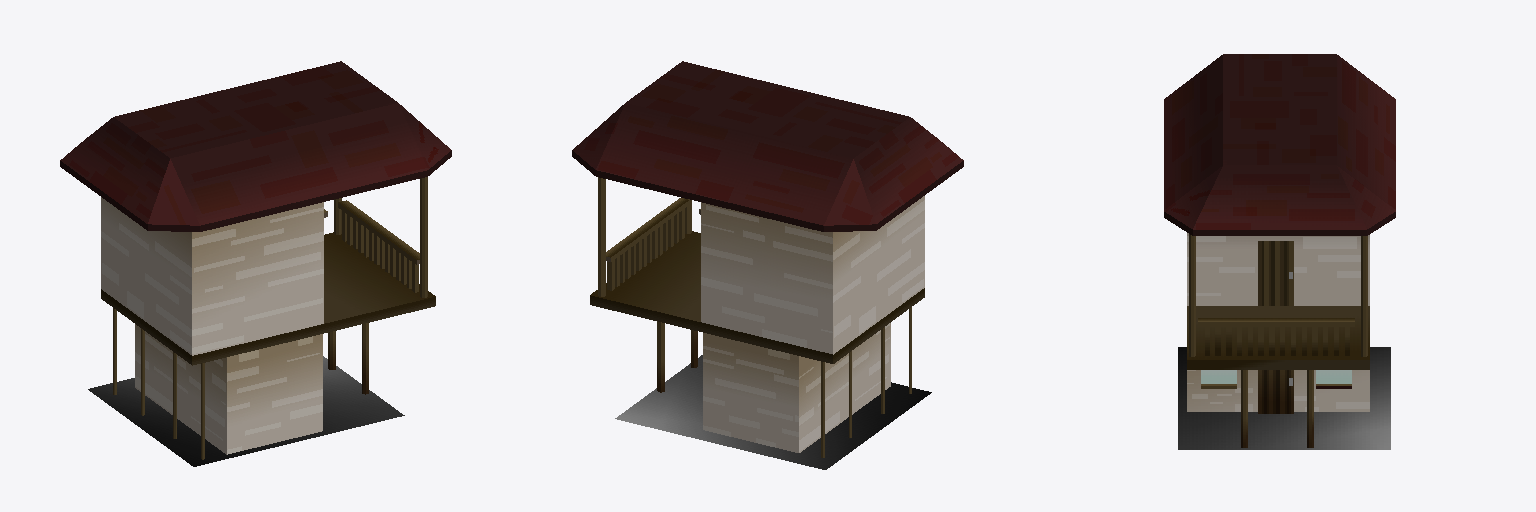
3 renders of one model, left to right at view 1: azimuth 30°, elevation 25°; view 2: azimuth 150°, elevation 25°; view 3: azimuth 270°, elevation 25°, orthographic.
Visible parts, largest first — view 1: beveled_cuboid, 2nd_floor, 1st_floor, cuboid, bottom_1st, cylinder, cube; view 2: beveled_cuboid, 2nd_floor, 1st_floor, bottom_1st, cuboid, cube, cylinder; view 3: beveled_cuboid, 2nd_floor, bottom_1st, cuboid, cube, 1st_floor, Door, cylinder.
Boxes of the visible parts, x1,y1,x2,y2 form: beveled_cuboid: [60, 61, 451, 231]; 2nd_floor: [101, 197, 323, 355]; 1st_floor: [135, 324, 322, 454]; cuboid: [101, 232, 435, 365]; bottom_1st: [88, 356, 404, 466]; cylinder: [113, 177, 427, 459]; cube: [324, 200, 419, 292]; beveled_cuboid: [572, 61, 963, 231]; 2nd_floor: [701, 196, 924, 354]; 1st_floor: [703, 323, 890, 452]; bottom_1st: [615, 355, 931, 469]; cuboid: [590, 231, 924, 363]; cube: [606, 198, 700, 290]; cylinder: [598, 177, 911, 457]; beveled_cuboid: [1164, 54, 1395, 235]; 2nd_floor: [1187, 233, 1369, 305]; bottom_1st: [1178, 347, 1390, 449]; cuboid: [1187, 306, 1369, 369]; cube: [1198, 318, 1354, 388]; 1st_floor: [1187, 370, 1369, 411]; Door: [1258, 241, 1293, 413]; cylinder: [1189, 234, 1367, 447].
Size of the model in its own units: 12.25 by 11.25 by 8.12.
1 materials, 1 textured.